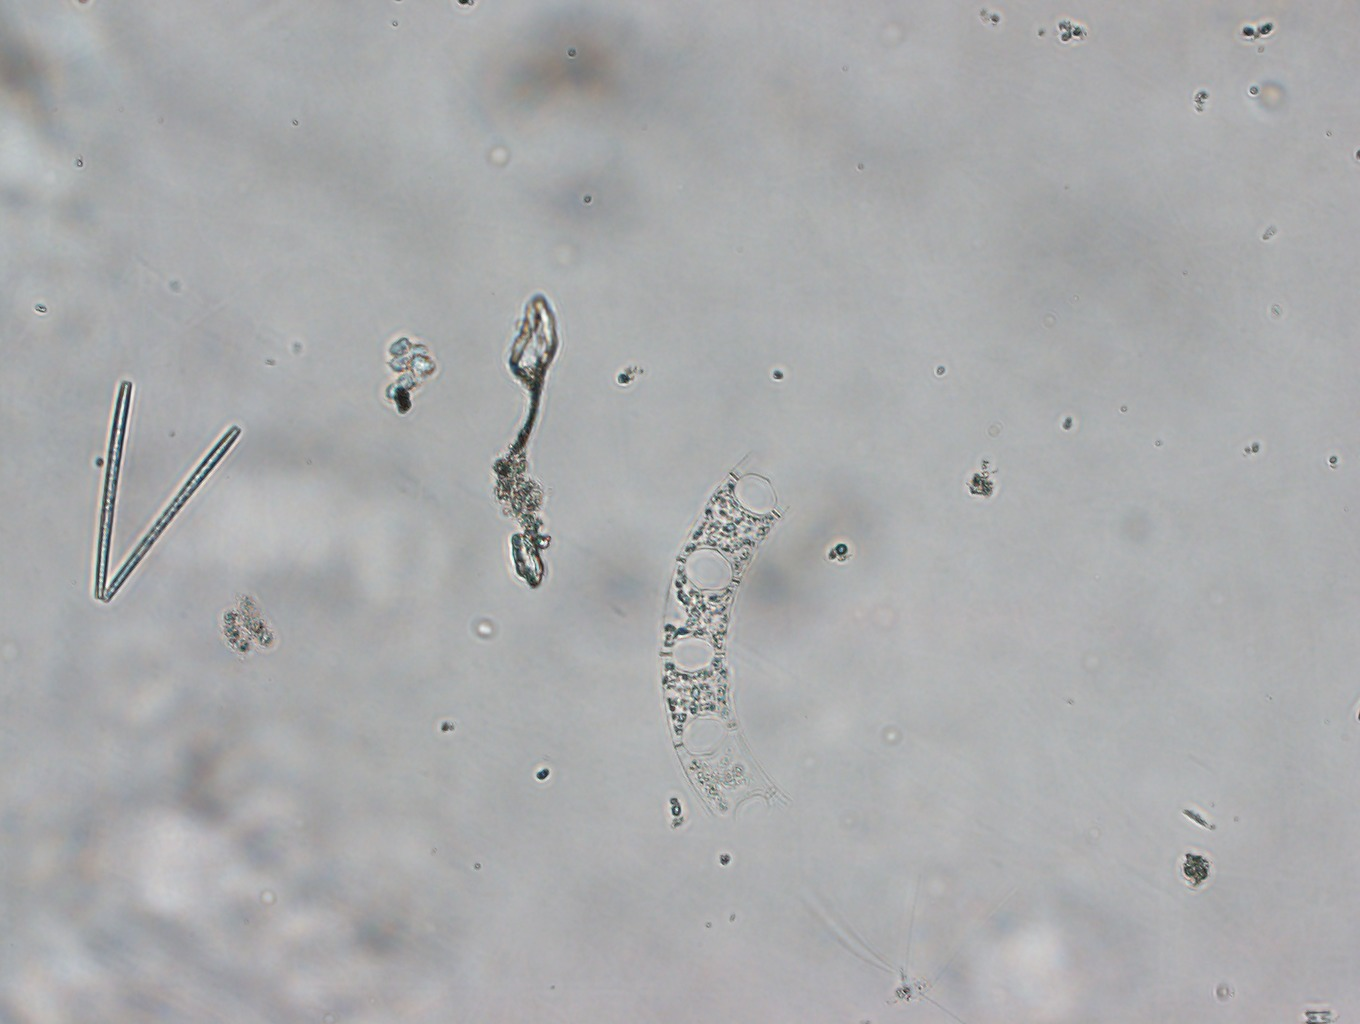eucampia: (652, 441, 794, 834)
thalassionema nitzschioides: (70, 366, 247, 608)
